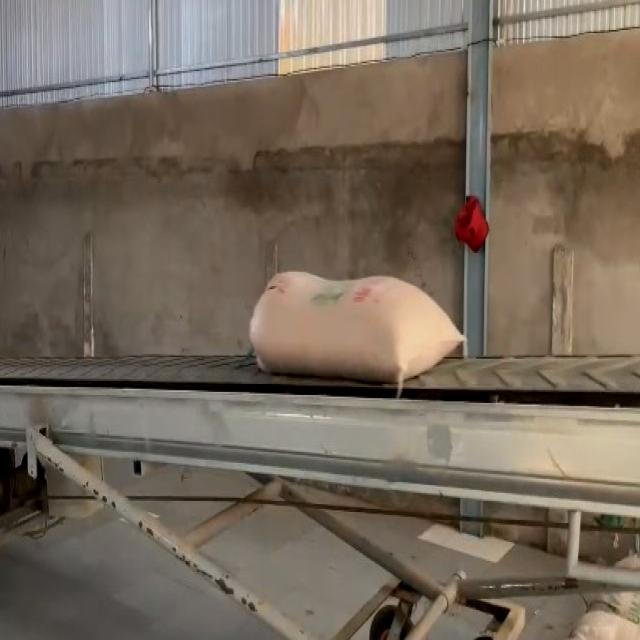gunny_bag: (249, 272, 463, 394)
